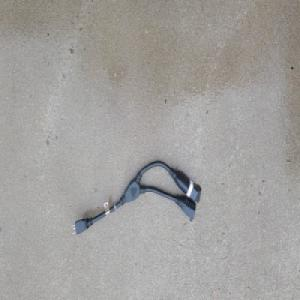Wire: (70, 159, 202, 237)
